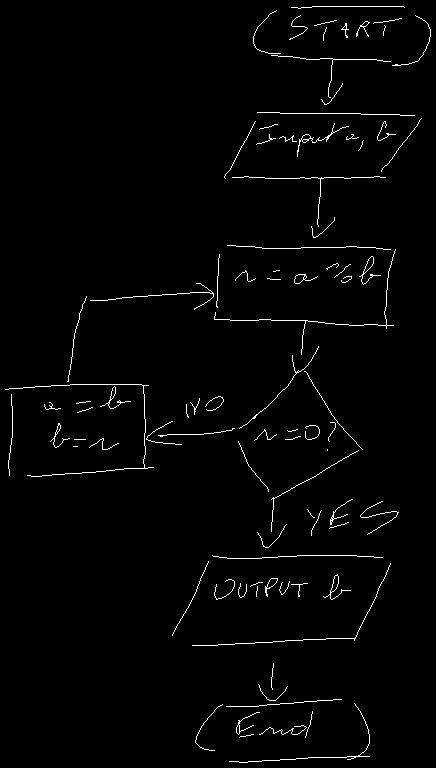arrow: (67, 283, 213, 381), (146, 421, 234, 444), (257, 497, 286, 547), (311, 177, 334, 237), (292, 320, 318, 372), (258, 663, 287, 700), (321, 60, 342, 104)
data: (172, 555, 390, 645), (224, 112, 421, 178)
decision: (238, 370, 362, 499)
process: (214, 245, 395, 328), (5, 384, 153, 476)
terminator: (195, 699, 369, 762), (253, 6, 430, 65)
text: (44, 386, 130, 449), (256, 121, 395, 156), (235, 256, 380, 284), (214, 574, 350, 599), (307, 499, 398, 535), (289, 15, 401, 40), (254, 422, 335, 450), (236, 711, 312, 737), (186, 396, 223, 417)
